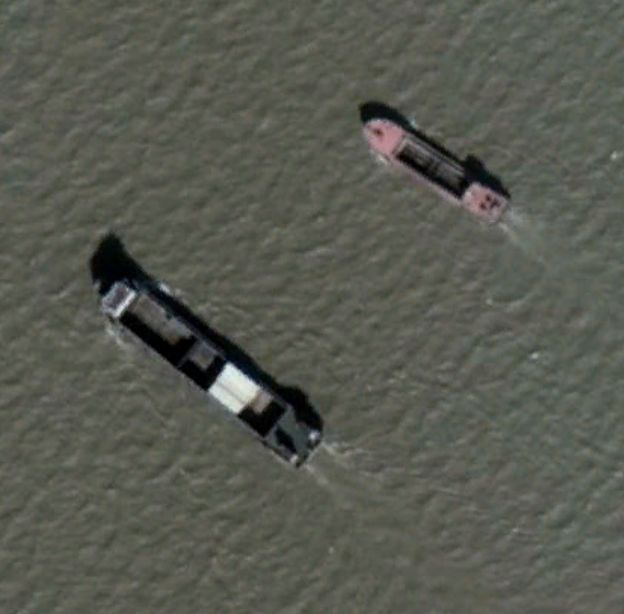boat: (89, 266, 325, 469), (356, 103, 510, 225)
